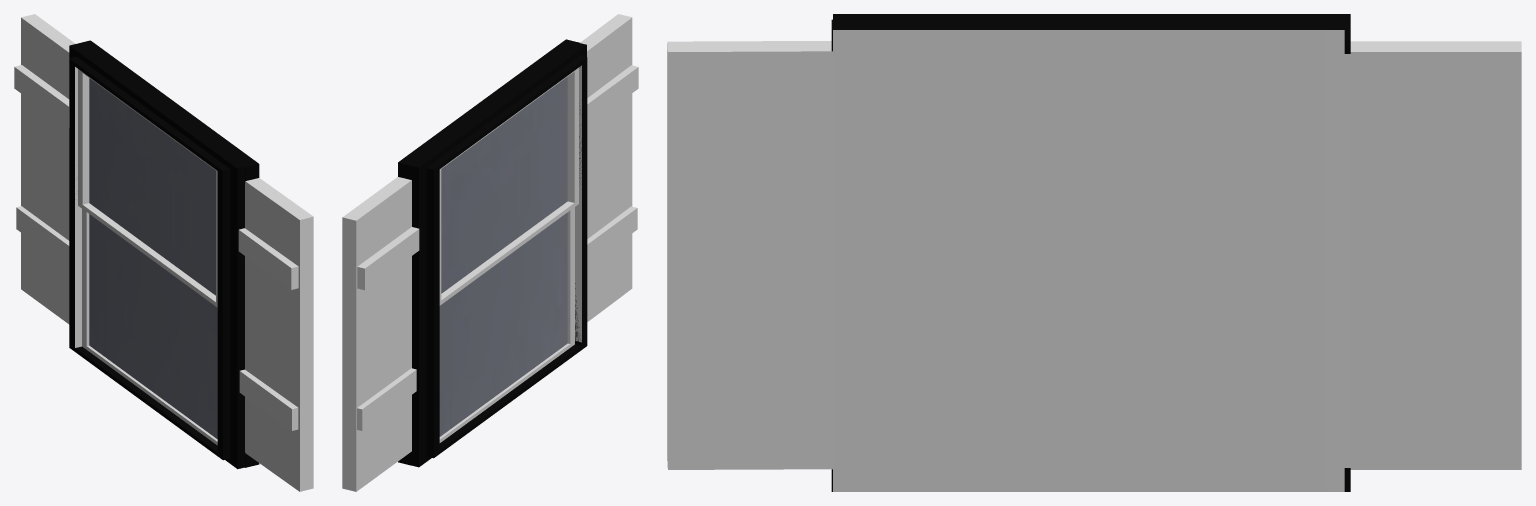
The model's file is window_with_shutters_window.7d9dd3cf.gltf.
3 views of the same model, side by side, from view 1: azimuth 30°, elevation 25°; view 2: azimuth 150°, elevation 25°; view 3: azimuth 270°, elevation 25° (orthographic). The views are drawn at different scales.
Visible parts, largest first — view 1: Shutters, window_glass, trims, Middle; view 2: Shutters, window_glass, trims, Middle; view 3: window_box, Shutters, trims.
Boxes of the visible parts, x1=… form: Shutters: x1=14, y1=14, x2=313, y2=491; window_glass: x1=89, y1=78, x2=217, y2=438; trims: x1=69, y1=40, x2=259, y2=469; Middle: x1=75, y1=67, x2=217, y2=445; Shutters: x1=342, y1=14, x2=638, y2=491; window_glass: x1=439, y1=77, x2=567, y2=436; trims: x1=398, y1=39, x2=587, y2=467; Middle: x1=439, y1=65, x2=581, y2=442; window_box: x1=833, y1=30, x2=1350, y2=491; Shutters: x1=667, y1=41, x2=1521, y2=469; trims: x1=831, y1=14, x2=1350, y2=491.
Size of the model in its own units: 0.5186 by 5 by 8.38.
Materials: 5 (1 with a texture image).
